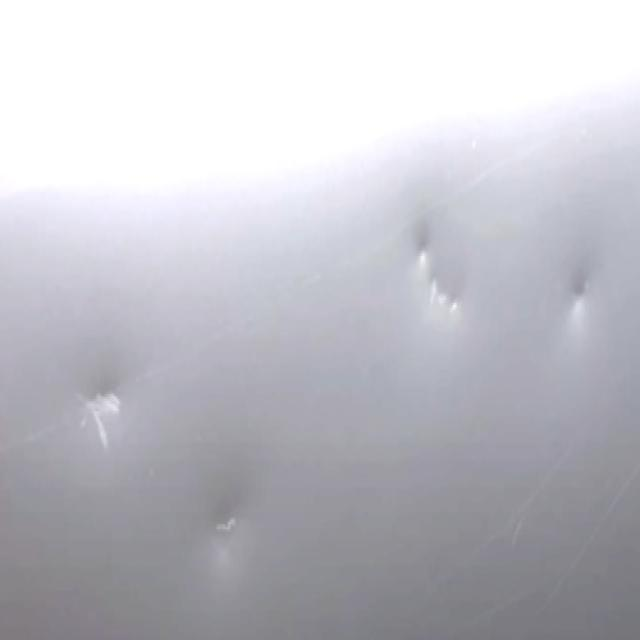dent: (375, 209, 473, 340), (200, 463, 258, 559), (548, 259, 608, 338), (95, 348, 143, 441)
